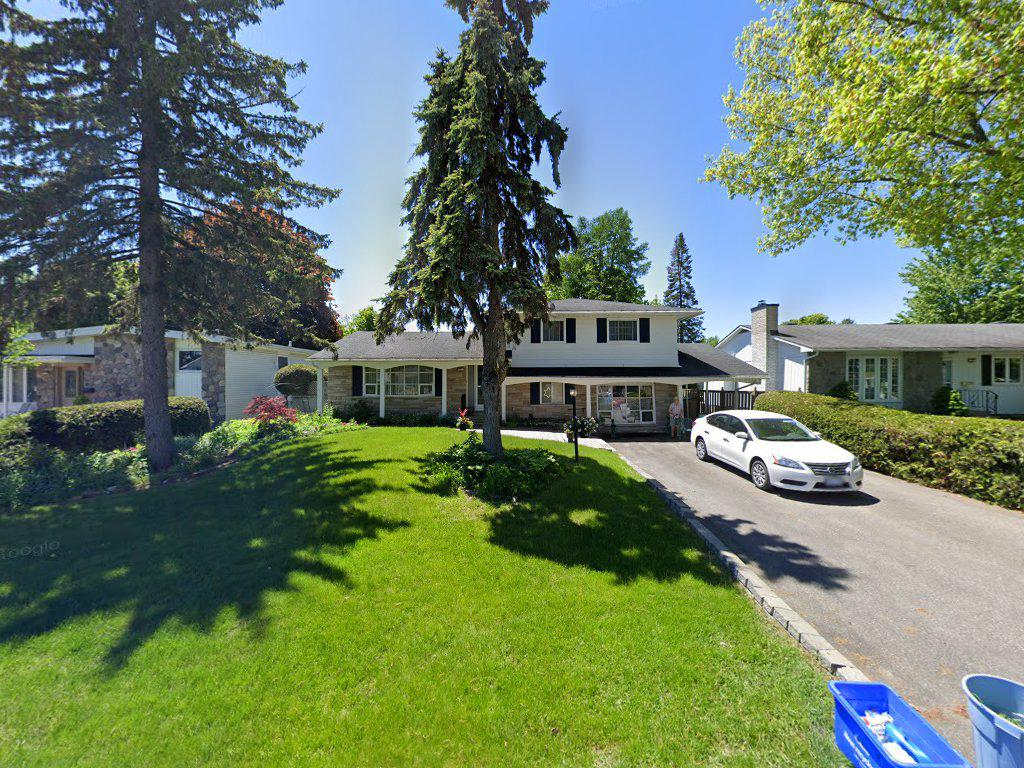trunk: (133, 150, 177, 490), (473, 281, 511, 492)
